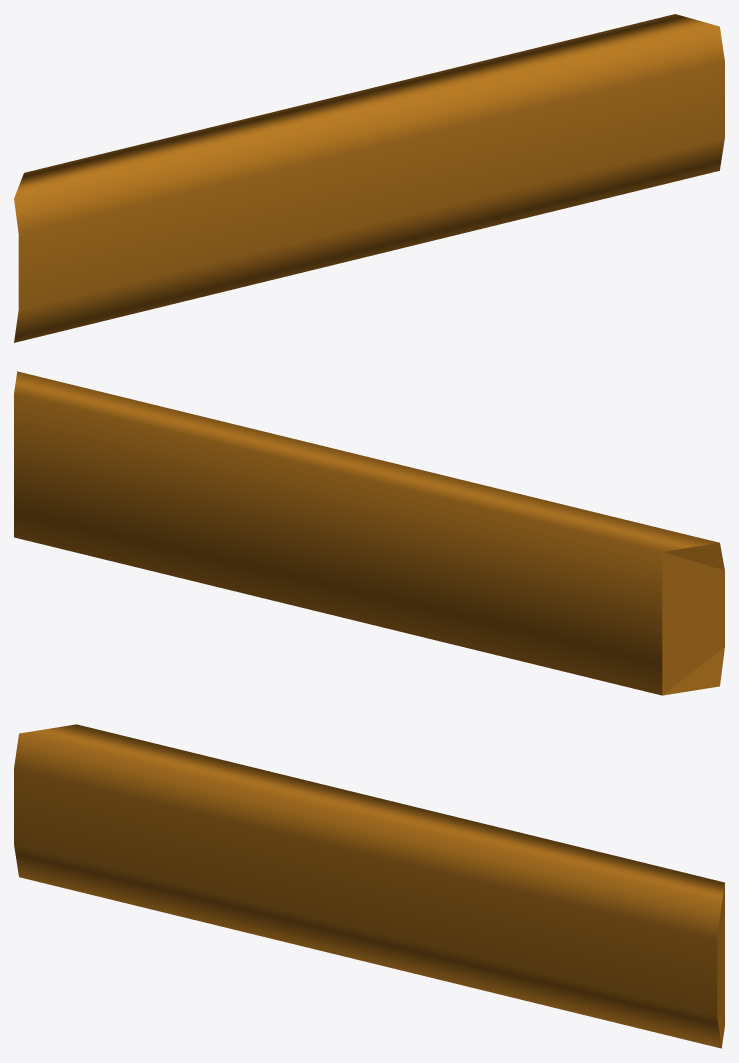
File: Blocker_Bar_Short.fbx
The picture shows the model from 3 angles, top to bottom: view 1: azimuth 30°, elevation 25°; view 2: azimuth 150°, elevation 25°; view 3: azimuth 330°, elevation 25°; orthographic projection.
Visible parts, largest first — view 1: Blocker_Bar_Short; view 2: Blocker_Bar_Short; view 3: Blocker_Bar_Short.
Part boxes in pixels (x1,y1,x2,y2): Blocker_Bar_Short: [14, 14, 724, 342]; Blocker_Bar_Short: [14, 371, 724, 695]; Blocker_Bar_Short: [14, 724, 724, 1048].
Size of the model in its own units: 3.32 by 0.6483 by 0.2341.
